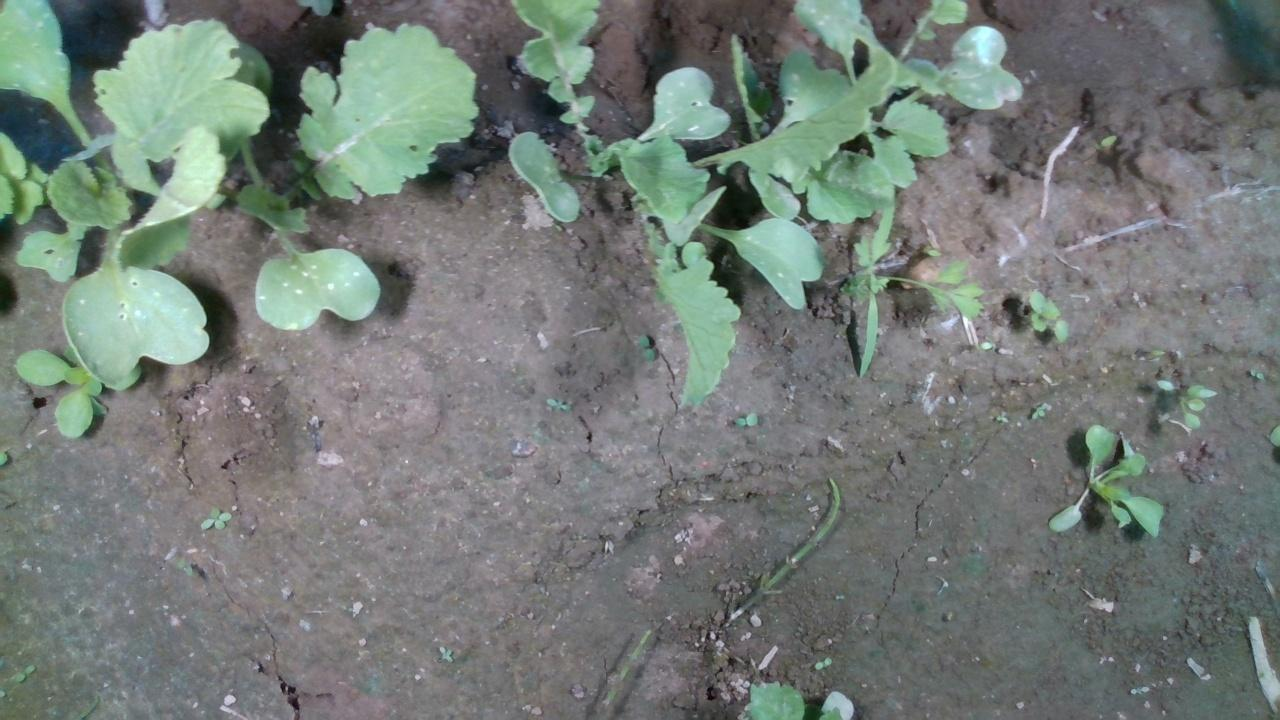weed: (1027, 287, 1069, 342), (196, 506, 231, 529), (637, 334, 654, 361), (544, 395, 571, 412), (731, 410, 757, 427), (13, 662, 35, 682), (1029, 400, 1048, 420), (437, 643, 452, 663), (813, 656, 832, 669), (1248, 368, 1264, 380)
